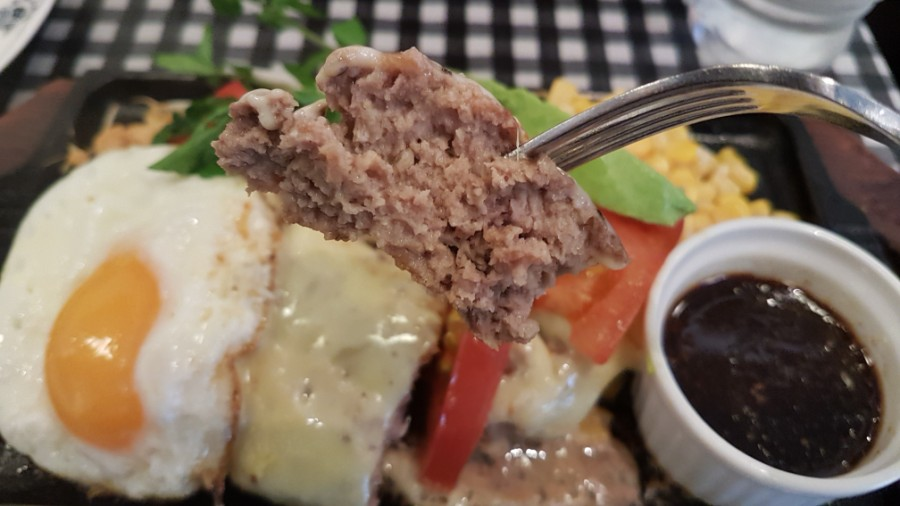fried egg: (16, 167, 254, 469)
